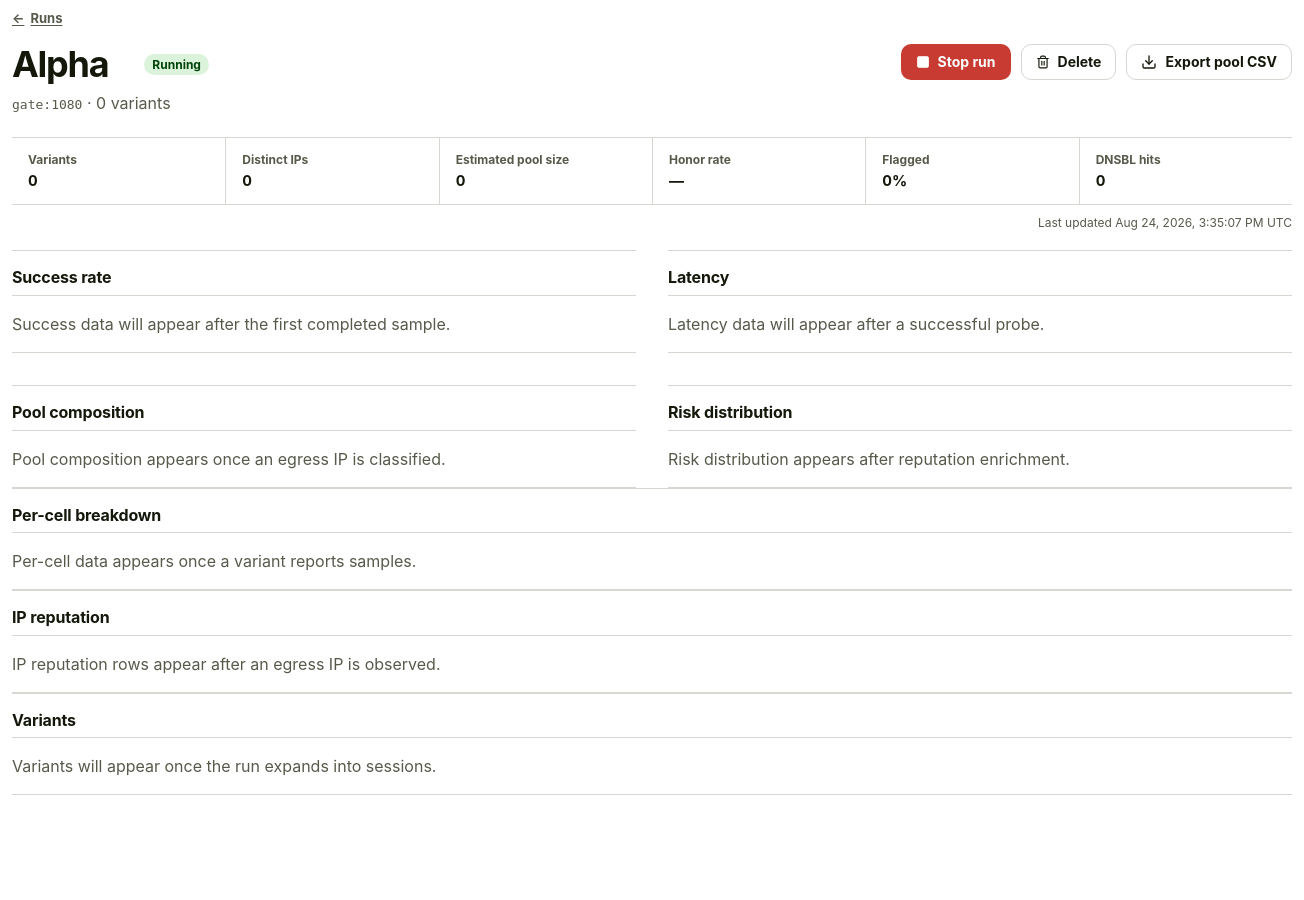
Test case: RunPage › surfaces a failed run rename without losing the typed name
The image size is (1304, 900).
Click the button with aria-label "Rename run name".
click(72, 65)  # box [12, 44, 132, 85]
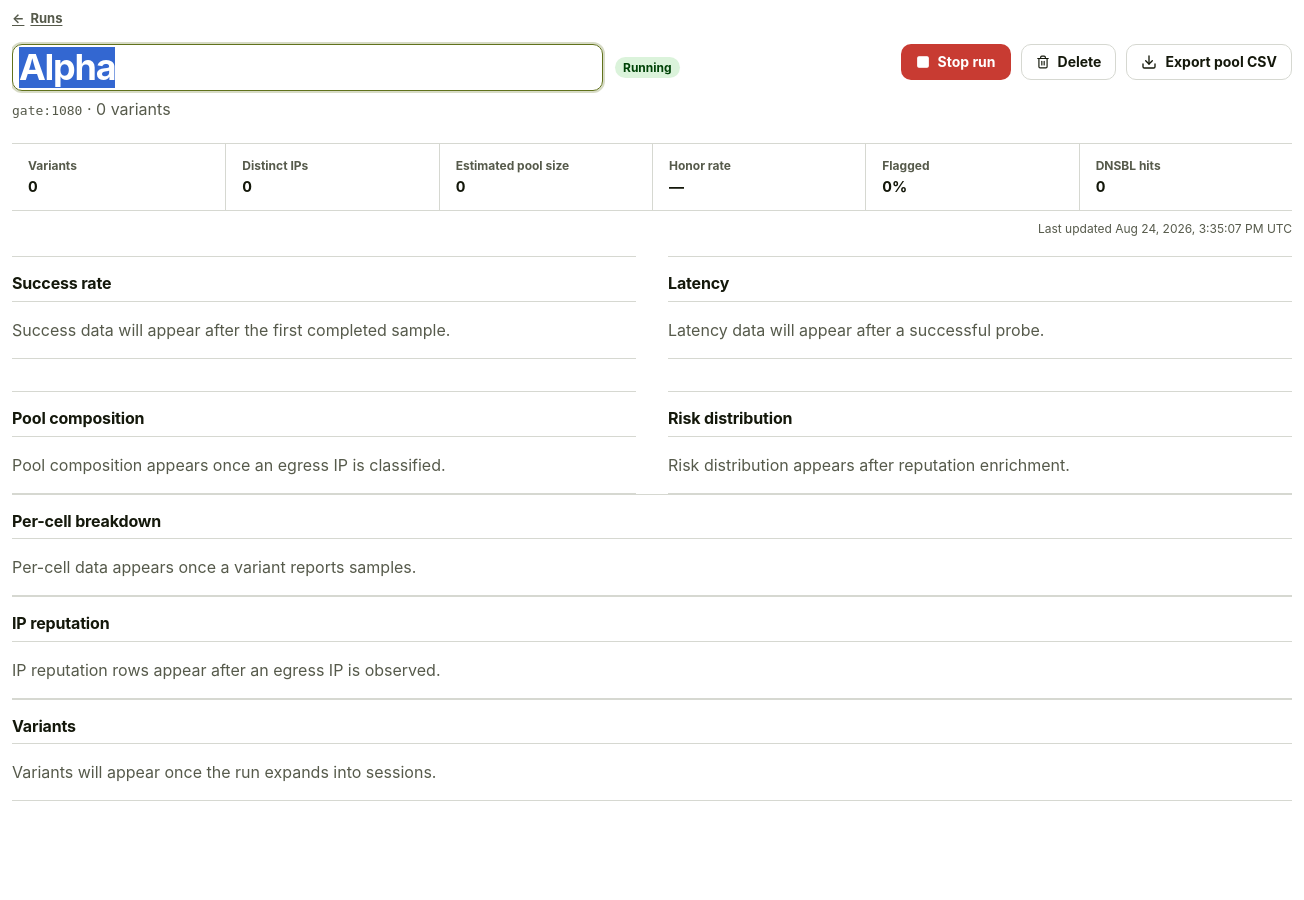
Replace the text in the field named "run name" with "Rejected name" at (308, 68), box [12, 44, 603, 91]
Then press Enter
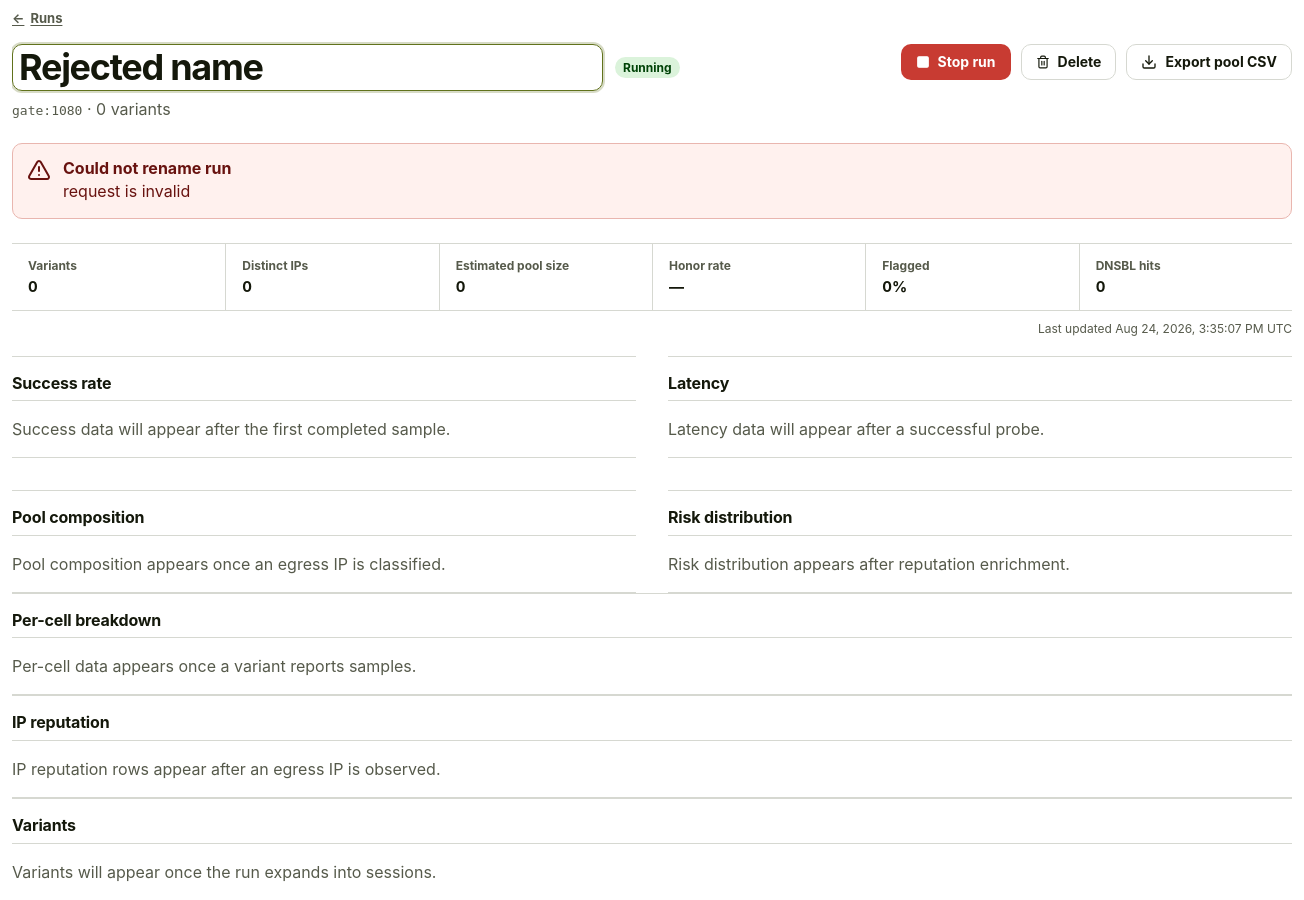
Expected: the text "Could not rename run" is shown, [63, 158, 232, 178]
